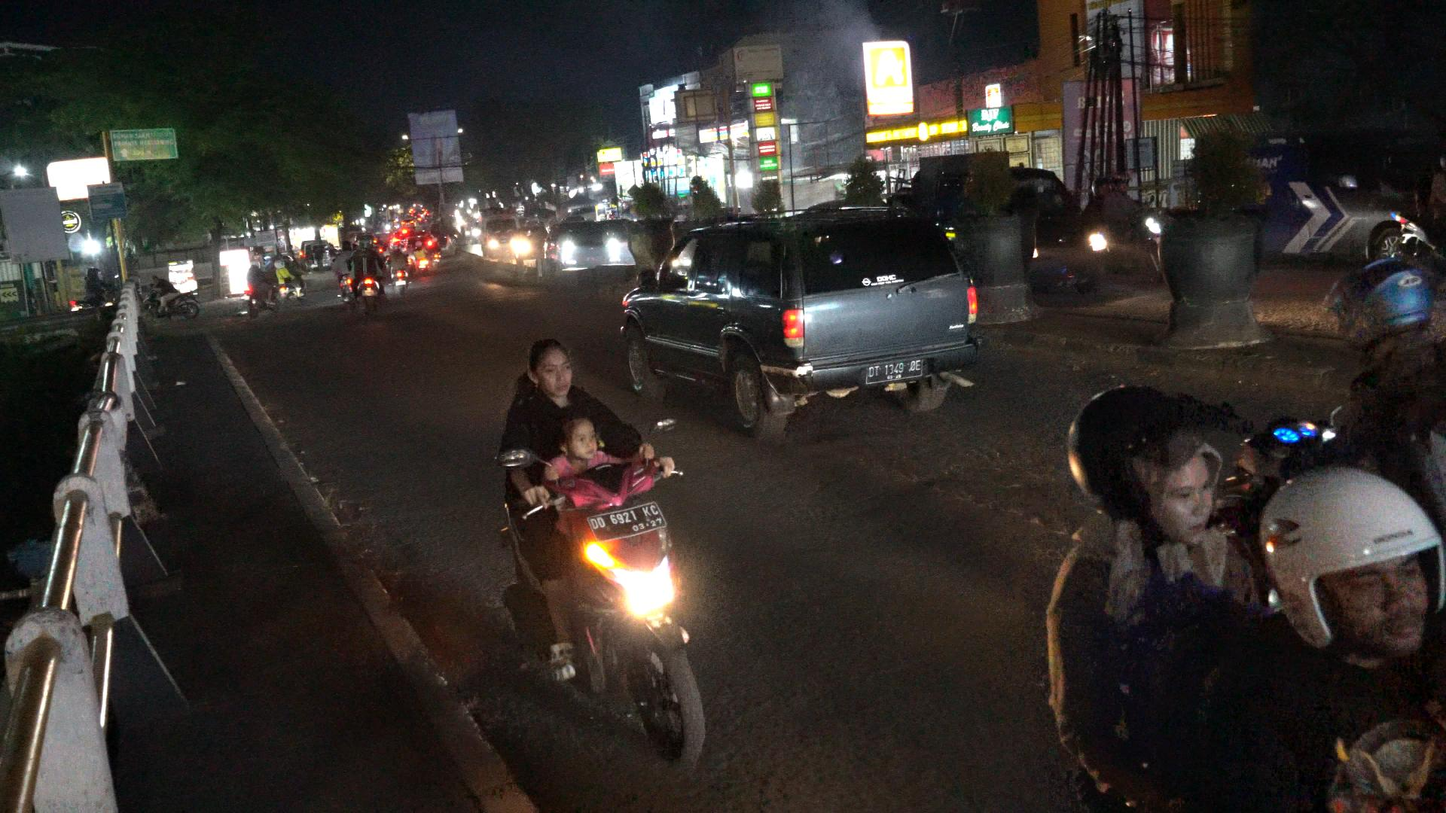number-plate: (584, 502, 672, 544)
